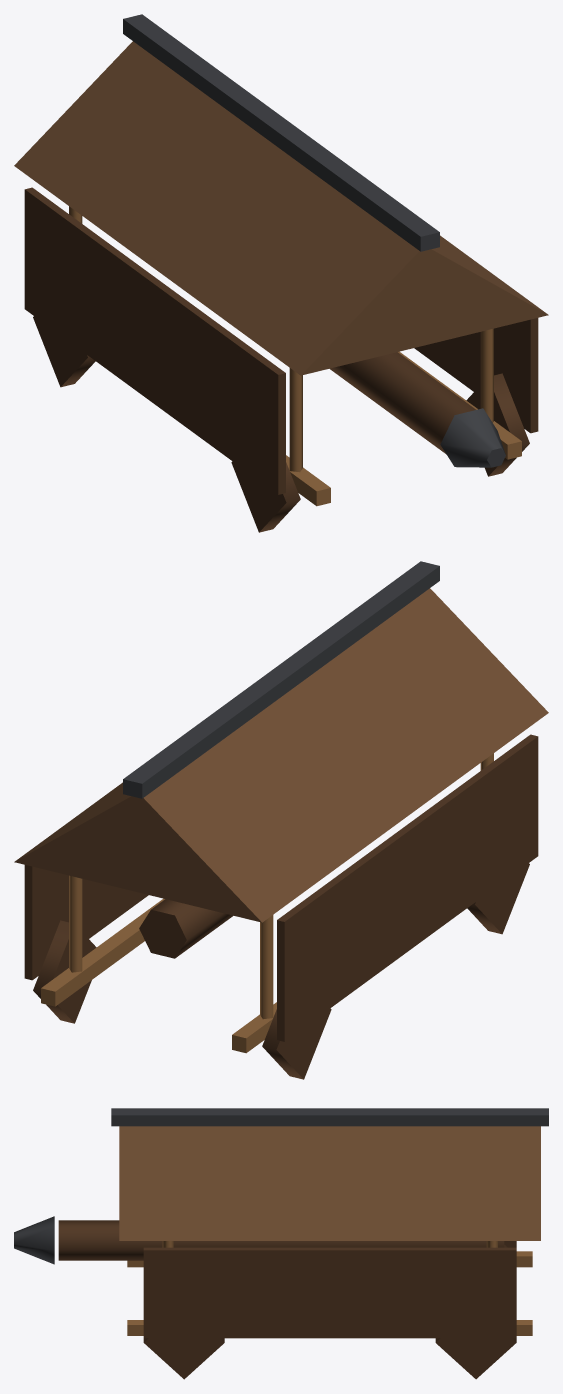
The model's file is unit_mil_ram_a02_lod2.glb.
3 renders of one model, top to bottom at view 1: azimuth 30°, elevation 25°; view 2: azimuth 150°, elevation 25°; view 3: azimuth 270°, elevation 25°, orthographic. The views are drawn at different scales.
Parts seen in each view (by area): view 1: body, ram, wheel_2, wheel_0, wheel_3; view 2: body, ram, wheel_1, wheel_0, wheel_2; view 3: body, ram, wheel_1, wheel_3.
Boxes of the visible parts, bbox=[...] form: body: bbox=[14, 14, 548, 506]; ram: bbox=[329, 352, 505, 467]; wheel_2: bbox=[231, 461, 300, 532]; wheel_0: bbox=[33, 316, 95, 387]; wheel_3: bbox=[466, 373, 529, 476]; body: bbox=[14, 561, 548, 1053]; ram: bbox=[139, 899, 233, 958]; wheel_1: bbox=[33, 920, 96, 1023]; wheel_0: bbox=[262, 1008, 331, 1079]; wheel_2: bbox=[467, 863, 529, 934]; body: bbox=[111, 1108, 548, 1338]; ram: bbox=[14, 1216, 504, 1264]; wheel_1: bbox=[435, 1338, 516, 1379]; wheel_3: bbox=[143, 1338, 224, 1379].
Bounding box in the file's own units: 2.72 × 3.05 × 6.6.
